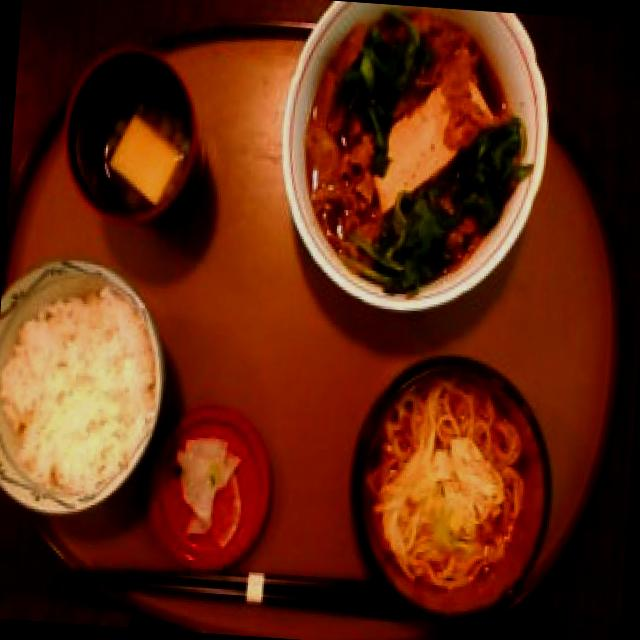Rice: (0, 263, 173, 518)
